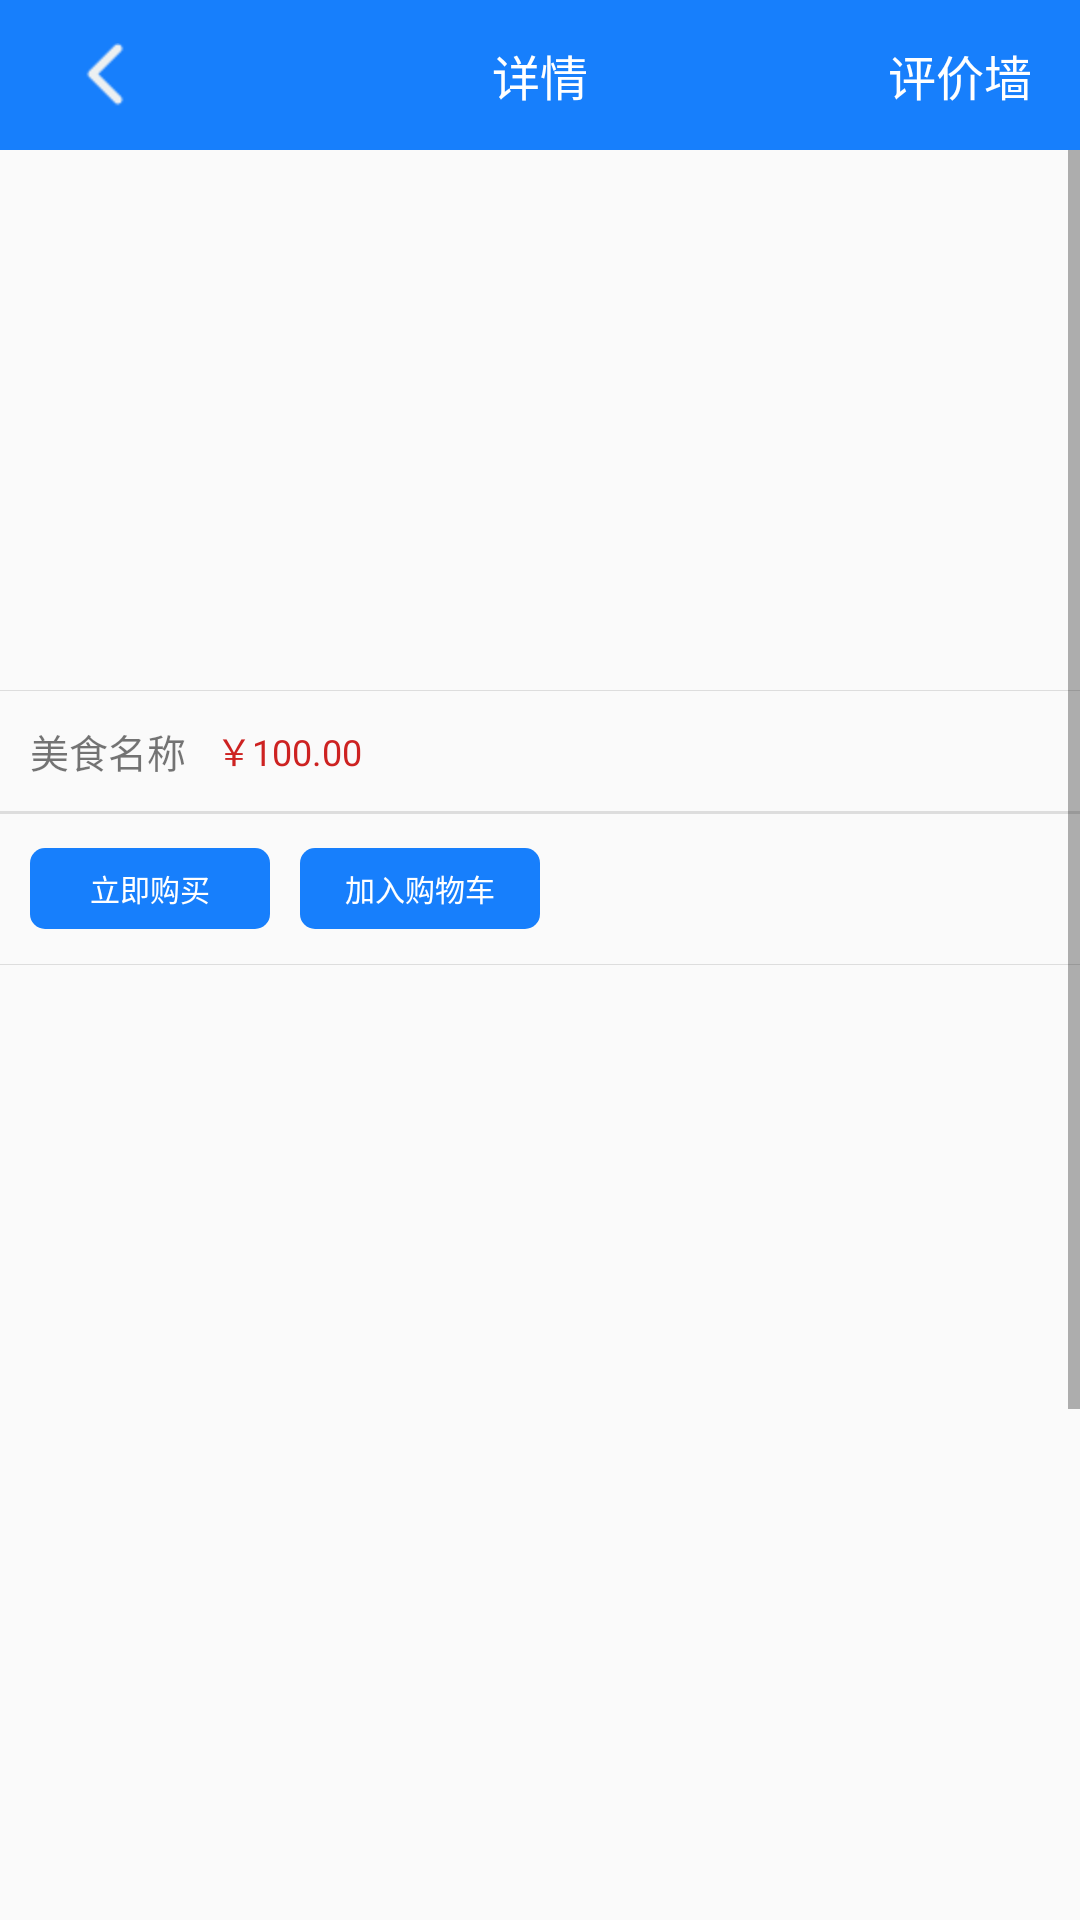

Icon click points for this 1080×1920 phone screenshot, format (x=x, y=y):
back: (x=105, y=74)
